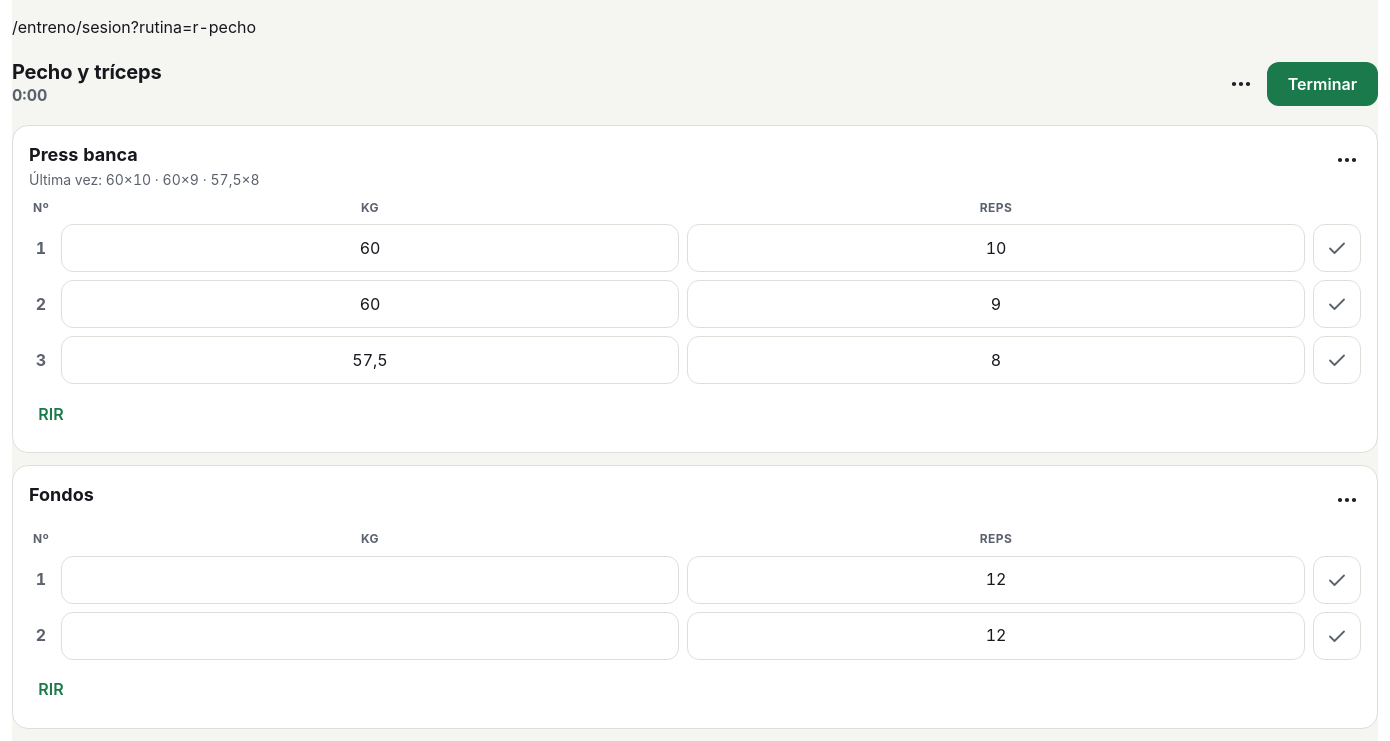
Test: temporizador de descanso › marcar una serie arranca la cuenta atrás con los segundos de descanso de su ejercicio
This screenshot has width=1390, height=741.
Click the 1st button named "Marcar serie 1 como hecha": [1337, 248] box [1313,224,1361,272]
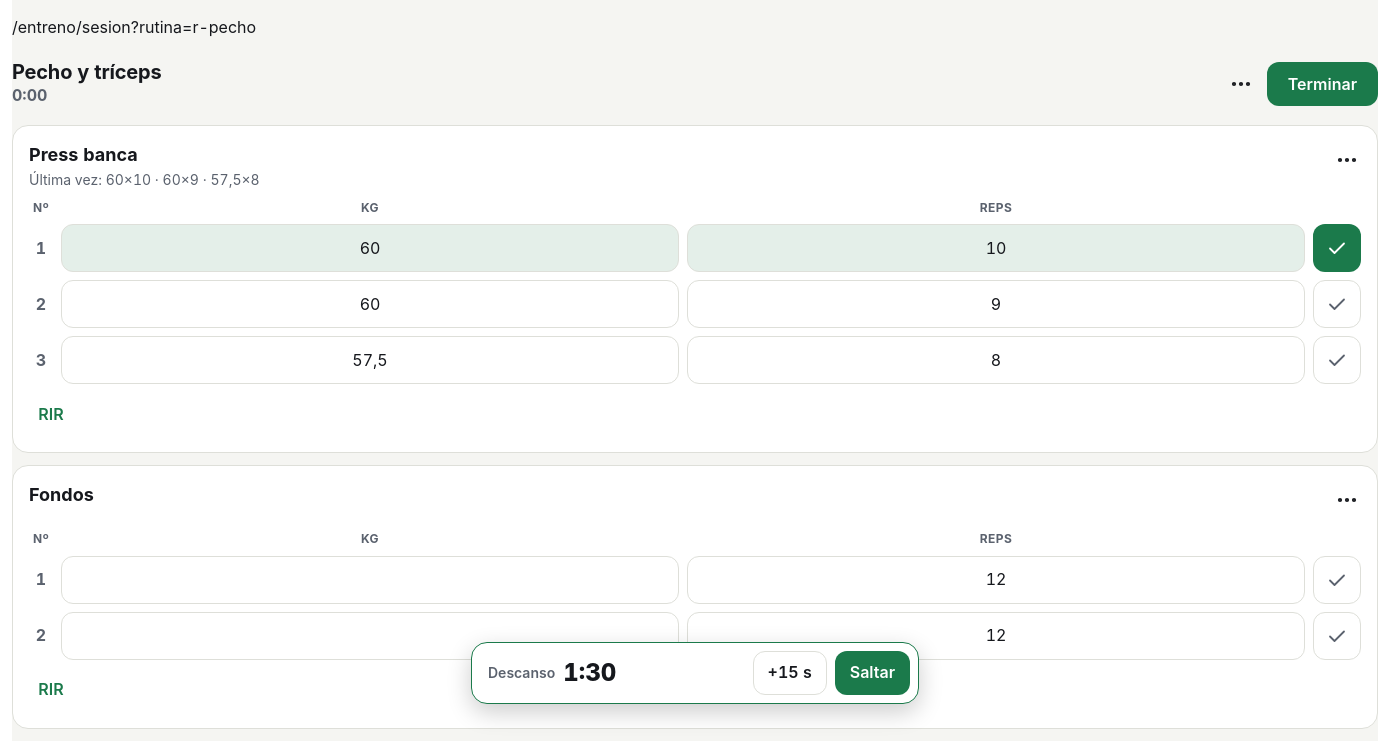
Result: the element "Descanso" shows "1:30" at [563,658,616,687]
Click the button named "Marcar serie 1 como hecha": [1337, 580] box [1313,556,1361,604]
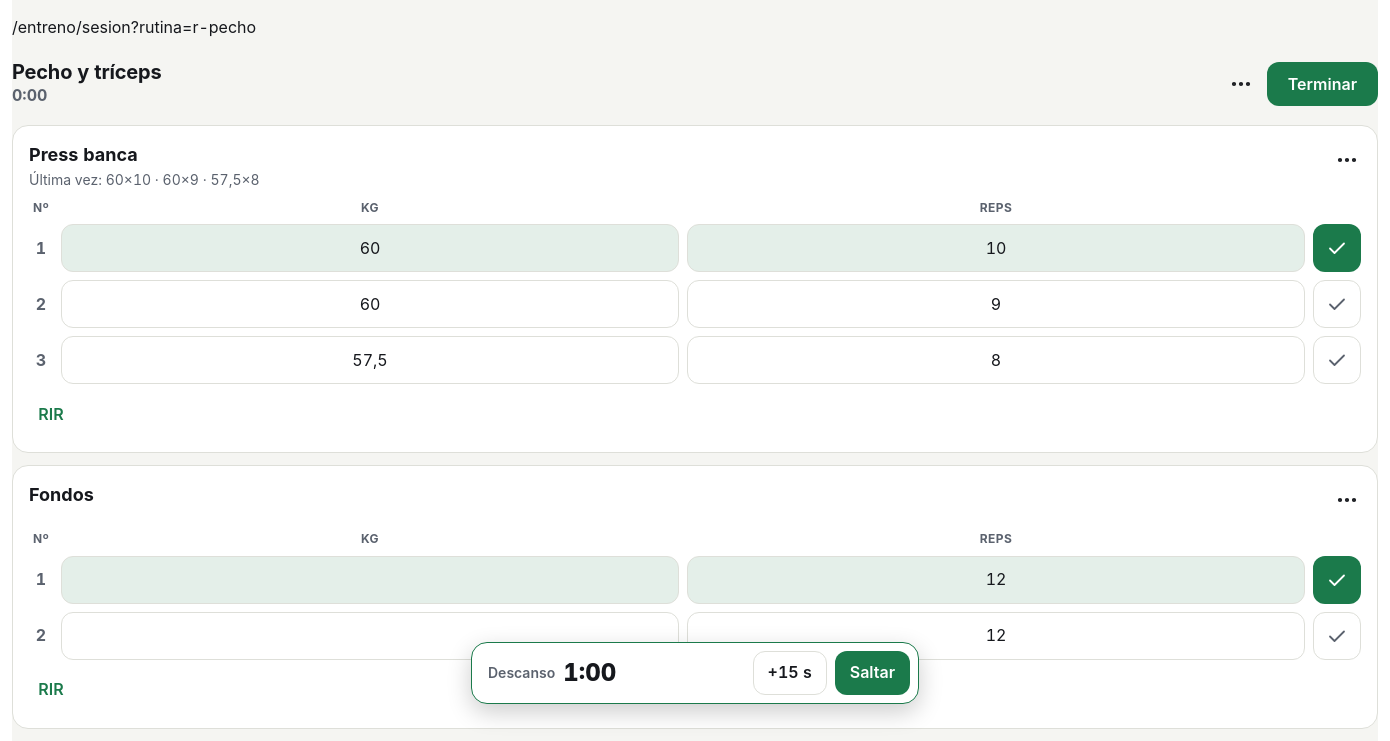
Result: the element "Descanso" shows "1:00" at [563,658,616,687]
